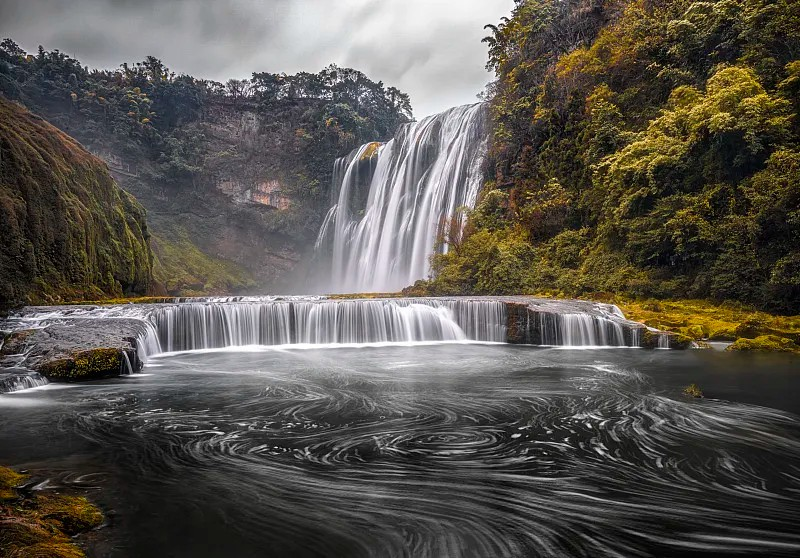Huangguoshu: (313, 104, 482, 294)
